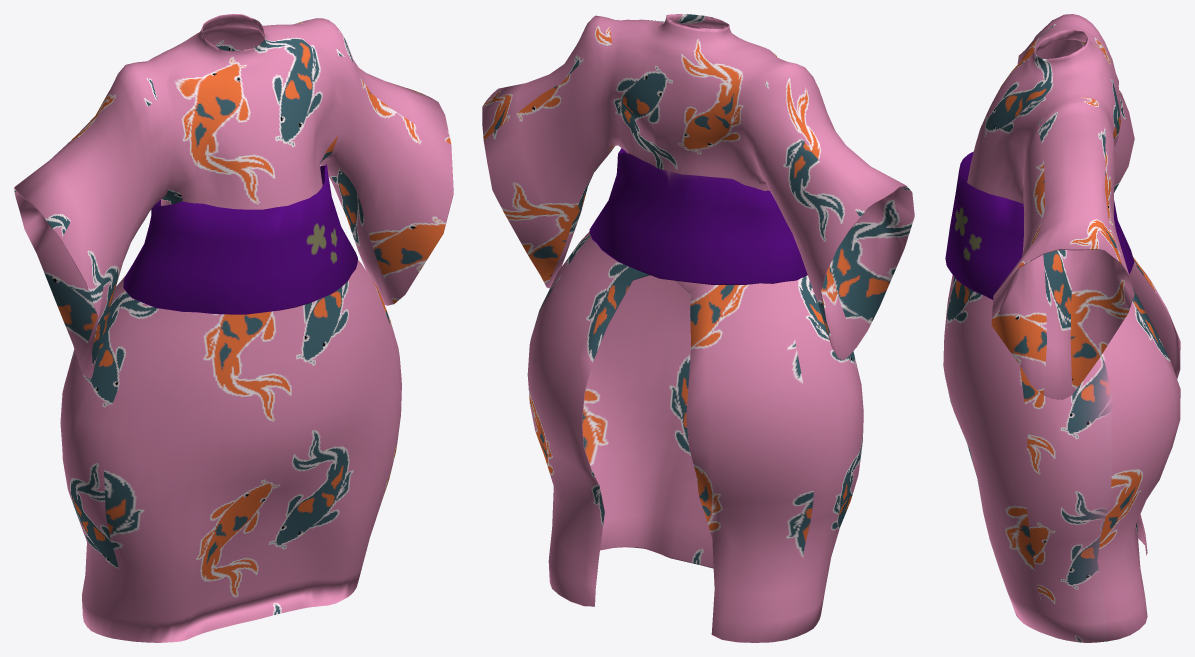
Rendered from Yukata Only FBX.fbx.
3 renders of one model, left to right at view 1: azimuth 30°, elevation 25°; view 2: azimuth 150°, elevation 25°; view 3: azimuth 270°, elevation 25°, orthographic. The views are drawn at different scales.
Visible parts, largest first — view 1: Yukata; view 2: Yukata; view 3: Yukata.
Part boxes in pixels (box(x1,y1,x2,y2)): Yukata: box(14, 14, 453, 642); Yukata: box(482, 14, 914, 642); Yukata: box(943, 14, 1180, 642).
Bounding box in the file's own units: 48.41 × 66.31 × 26.05.
Materials: 1 (1 with a texture image).
